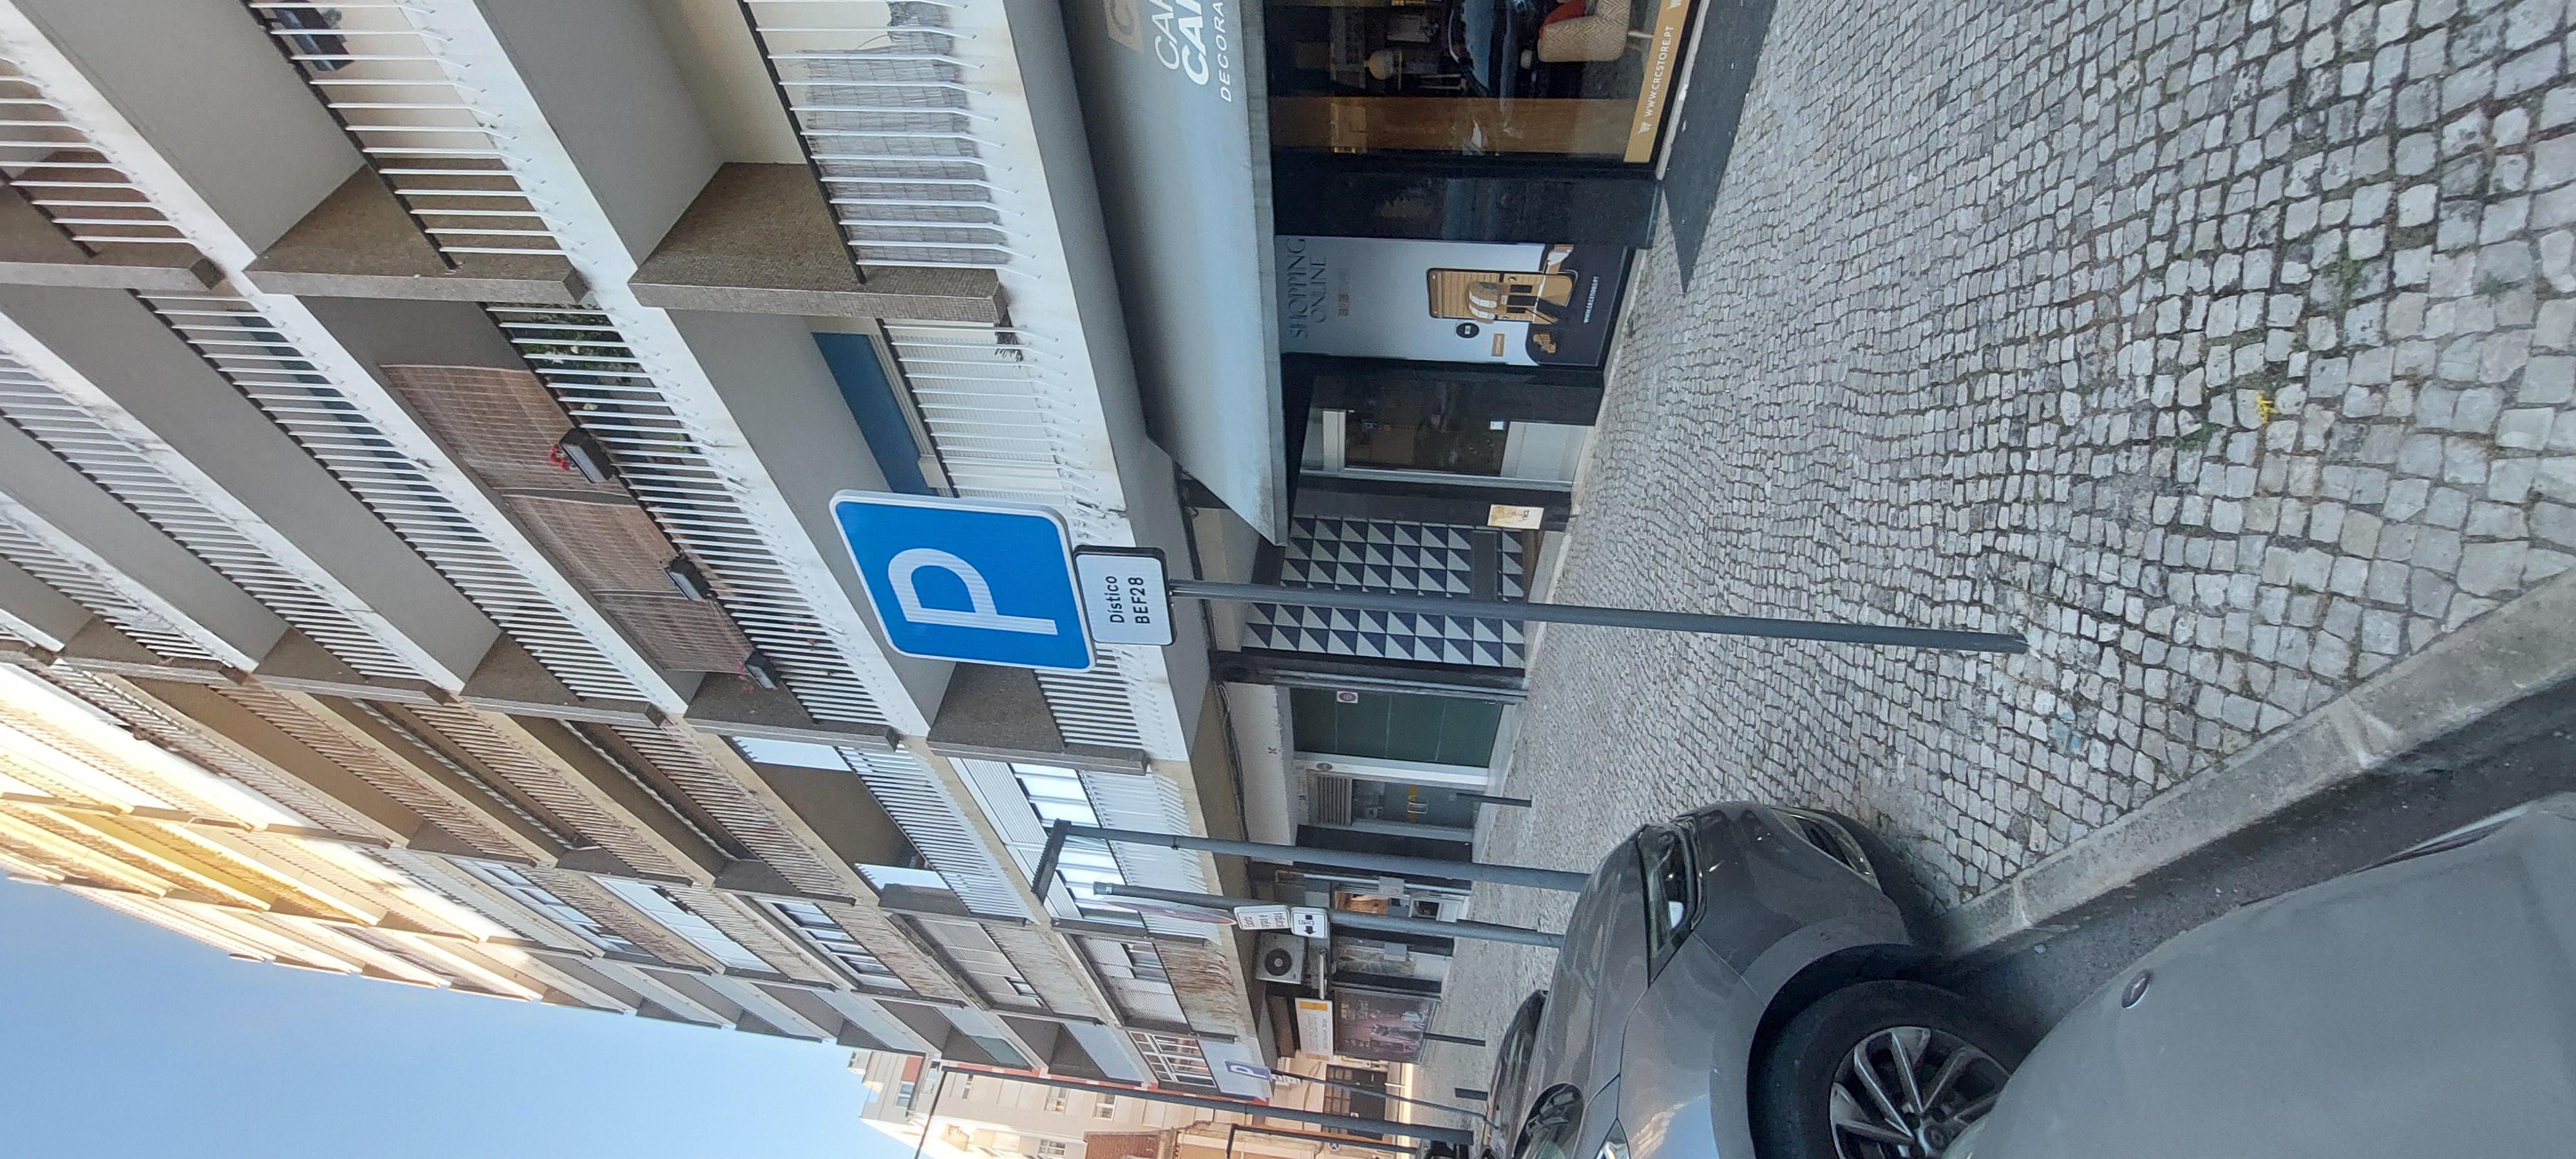Estacionamento autorizado: (1088, 376, 1483, 492)
